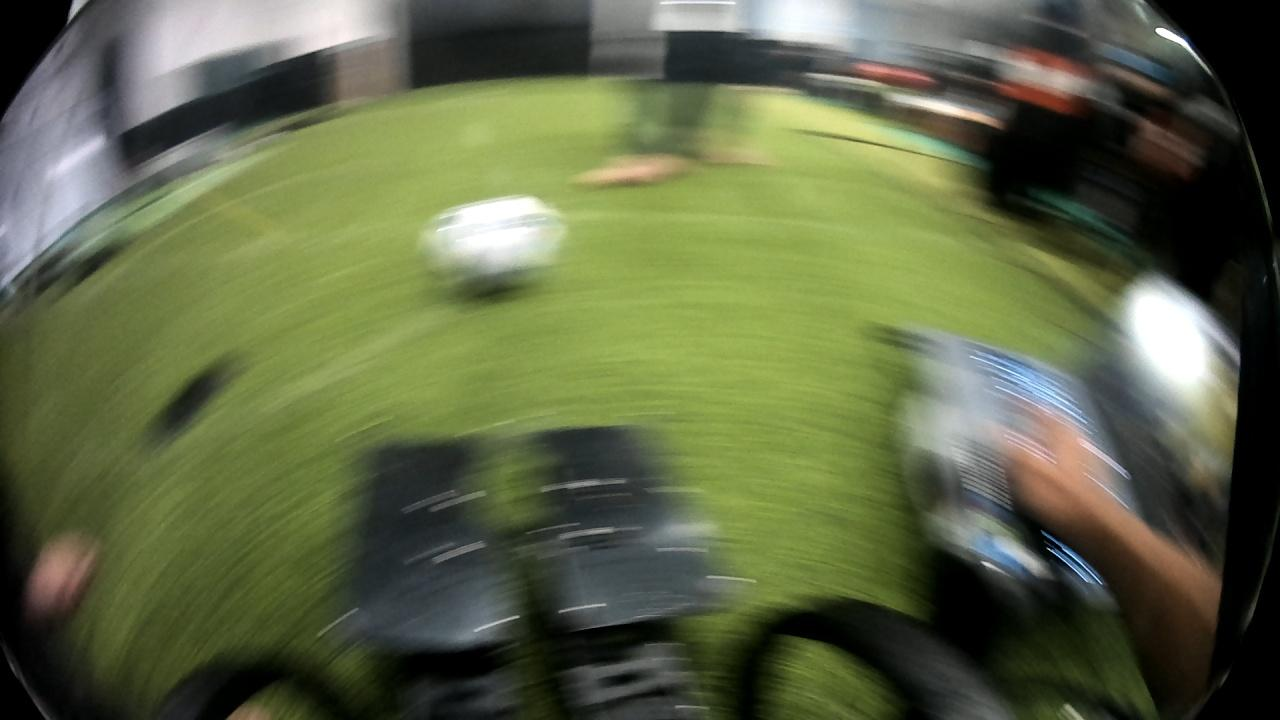ball: (417, 177, 583, 292)
